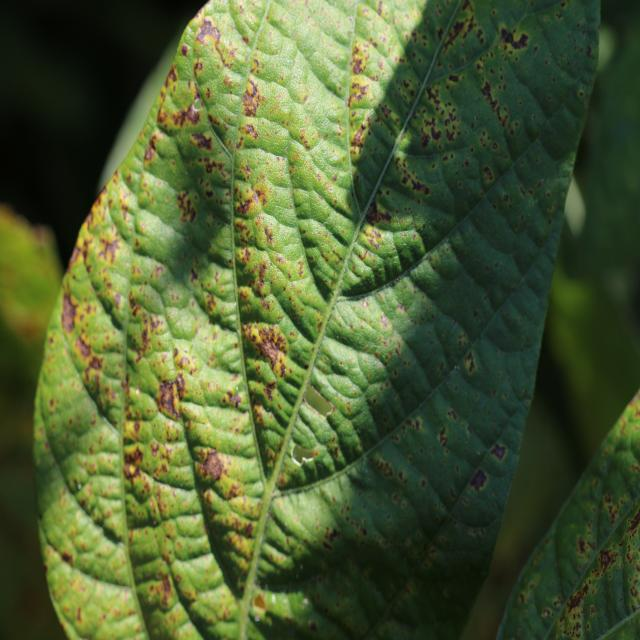Bacterial_Blight: (41, 361, 102, 461), (288, 138, 347, 236), (79, 205, 129, 320), (250, 306, 301, 407), (233, 152, 284, 246), (248, 17, 302, 95), (299, 382, 340, 462), (238, 239, 281, 302), (195, 15, 237, 75), (131, 307, 170, 363), (479, 74, 514, 134), (394, 153, 435, 199), (154, 372, 185, 418), (431, 102, 461, 145), (165, 97, 202, 130), (440, 17, 470, 53), (348, 73, 376, 111), (303, 384, 333, 416), (420, 113, 446, 149), (241, 78, 263, 117), (199, 449, 224, 481), (366, 200, 395, 227), (176, 189, 197, 225), (236, 185, 260, 216), (97, 231, 121, 261), (123, 443, 145, 474), (500, 26, 528, 50), (61, 292, 77, 332), (291, 443, 318, 463), (372, 456, 394, 480), (468, 467, 488, 493), (190, 130, 213, 151), (159, 575, 173, 606), (76, 334, 92, 360), (462, 351, 478, 376), (252, 592, 269, 614), (352, 125, 366, 151), (144, 135, 158, 161), (490, 442, 507, 461), (86, 353, 102, 373), (324, 526, 340, 544), (480, 80, 493, 101), (242, 122, 257, 140), (175, 372, 186, 394), (438, 426, 448, 447), (60, 550, 73, 565), (231, 392, 242, 408), (482, 166, 493, 182), (420, 133, 431, 148), (446, 408, 458, 421), (150, 441, 159, 456), (190, 267, 198, 283), (192, 99, 201, 112), (180, 356, 189, 368), (448, 74, 459, 83), (181, 44, 189, 56), (361, 121, 367, 130), (154, 472, 159, 479)
Soybean: (31, 0, 602, 640)
